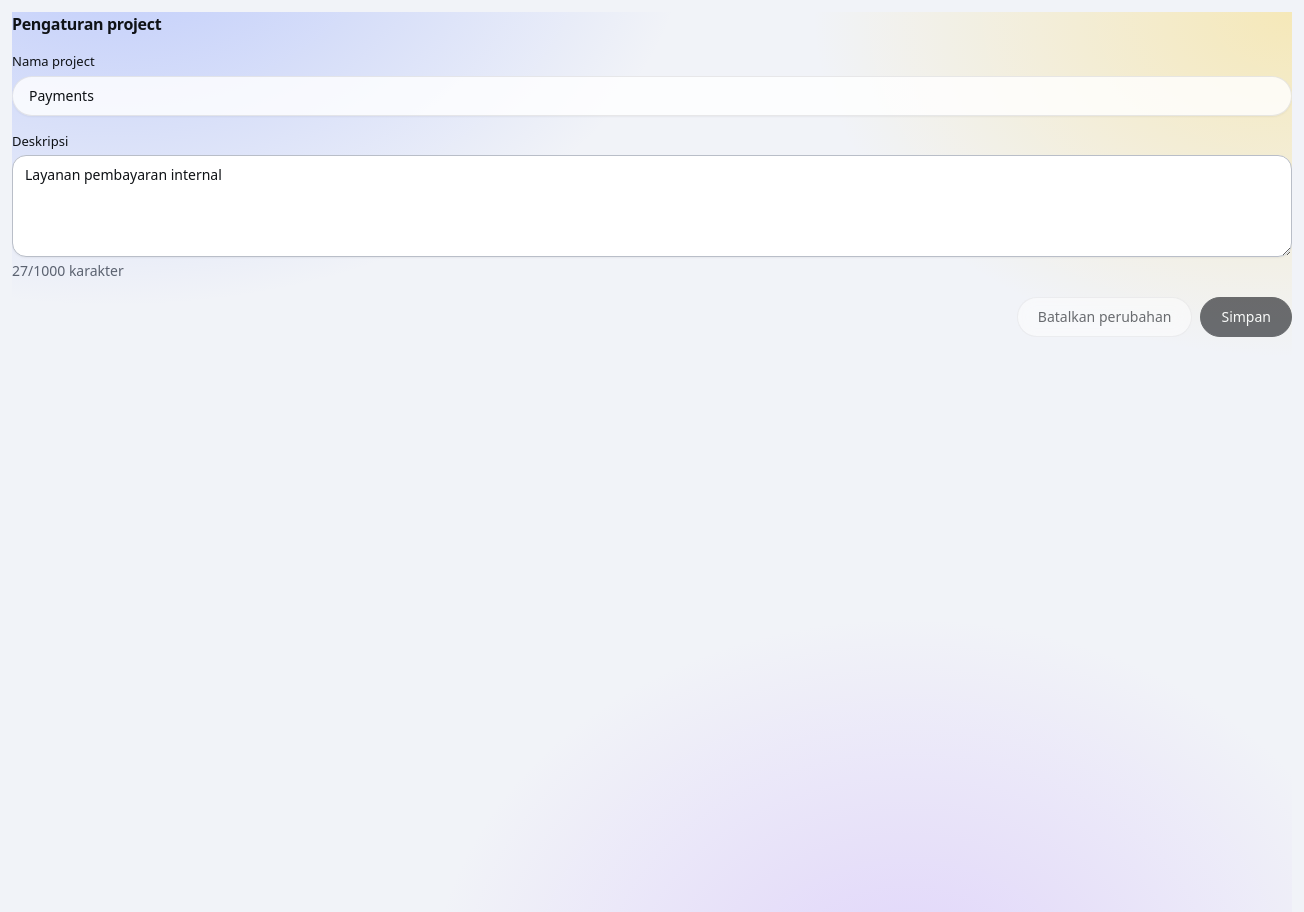
Scenario: ProjectSettingsView › 400 fields.body
Type " v2" into the field labelled "Nama project" at (652, 96), box [12,76,1292,116]
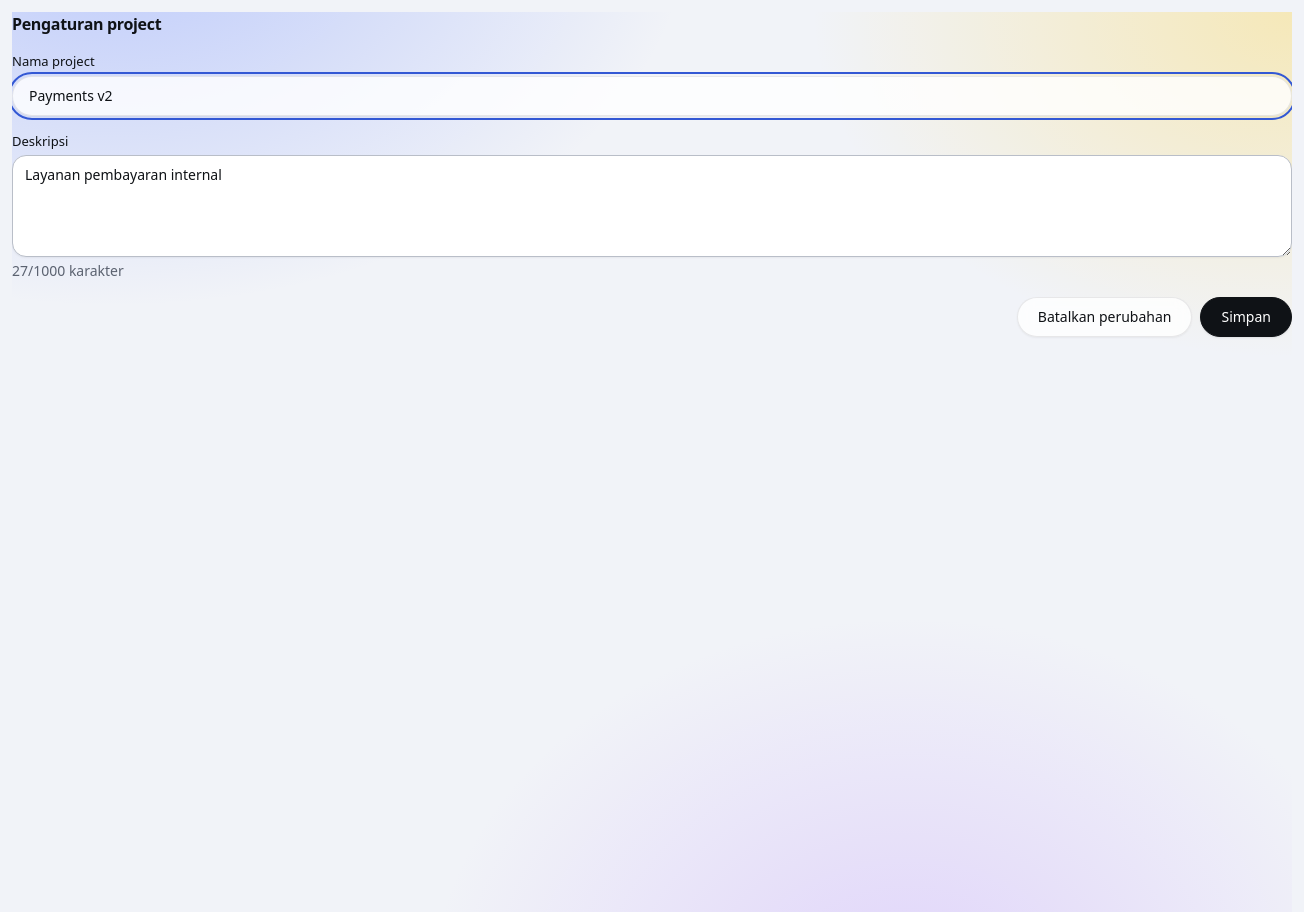
Click the button "Simpan" at (1246, 317), box [1200,297,1292,337]
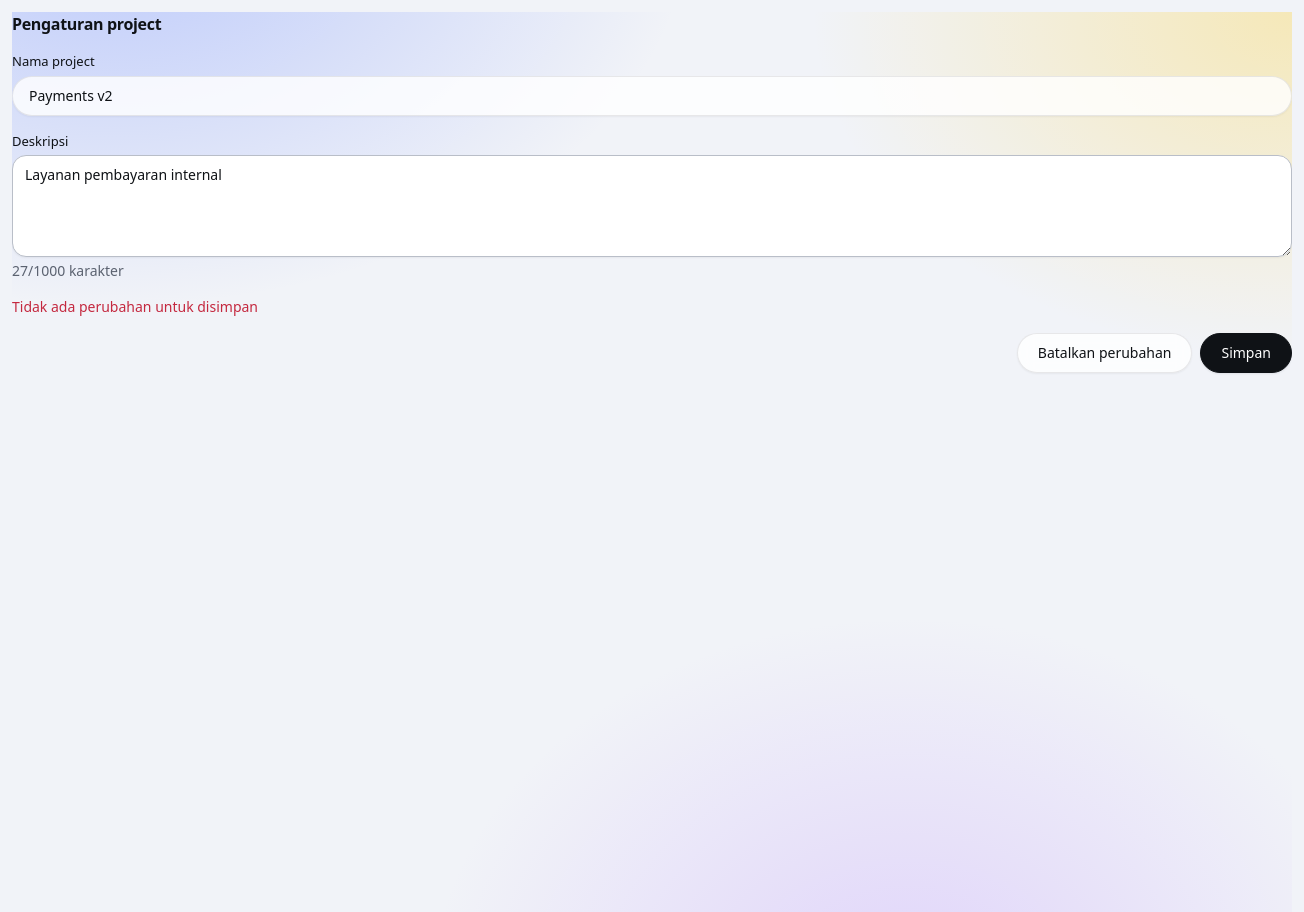
Now the message reads "Tidak ada perubahan untuk disimpan", box [12,297,258,316]
